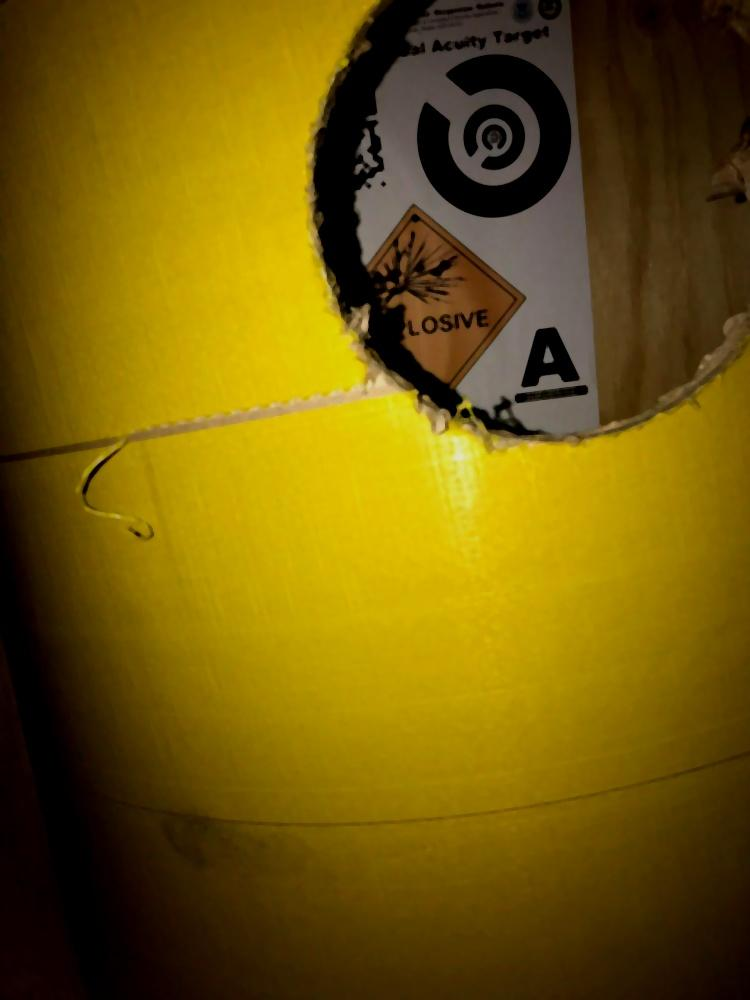explosive: (330, 199, 527, 409)
